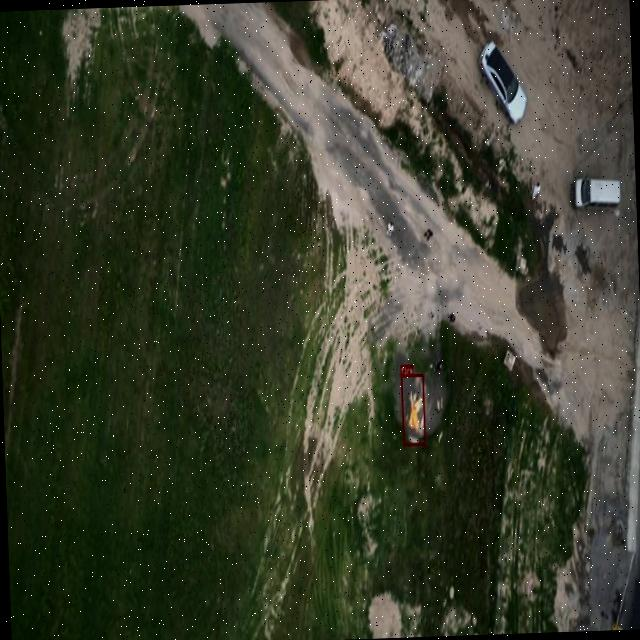fire: (400, 373, 425, 445)
